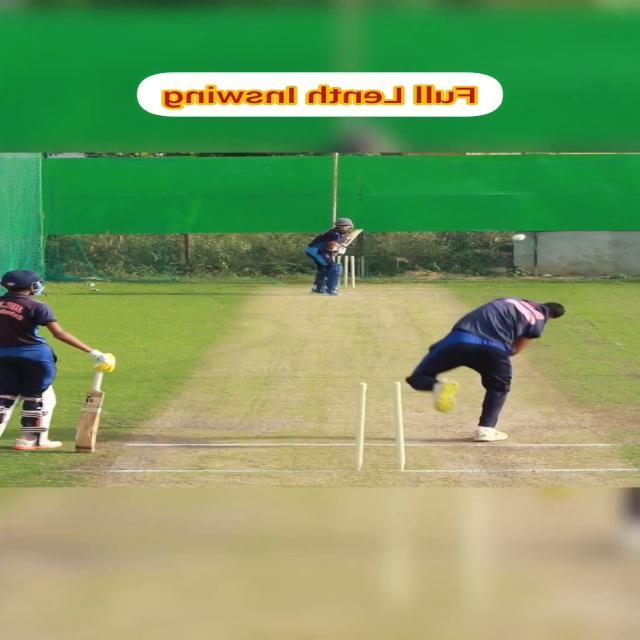ball: (512, 233, 526, 242)
stump: (352, 380, 409, 472), (336, 254, 357, 288)
